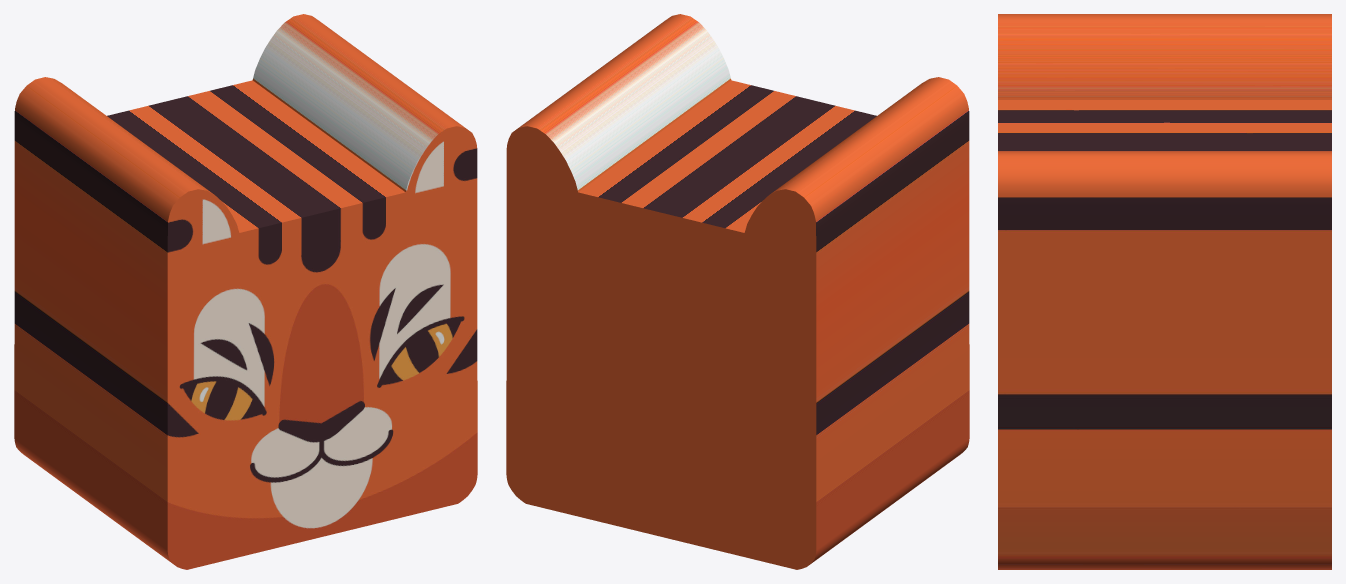
File: Tiger.obj
3 renders of one model, left to right at view 1: azimuth 30°, elevation 25°; view 2: azimuth 150°, elevation 25°; view 3: azimuth 270°, elevation 25°, orthographic. The views are drawn at different scales.
Parts seen in each view (by area): view 1: Tiger; view 2: Tiger; view 3: Tiger.
Boxes of the visible parts, <box> form: Tiger: <box>14,14,477,569</box>; Tiger: <box>506,14,969,569</box>; Tiger: <box>998,14,1331,569</box>.
Bounding box in the file's own units: 5.36 × 6.24 × 4.59.
